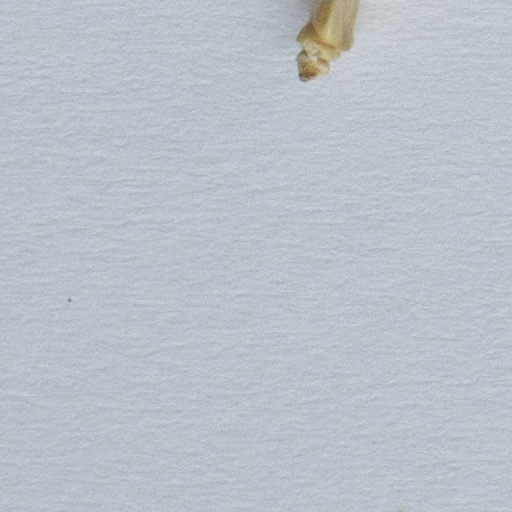Peel-poly: (296, 0, 360, 78)
